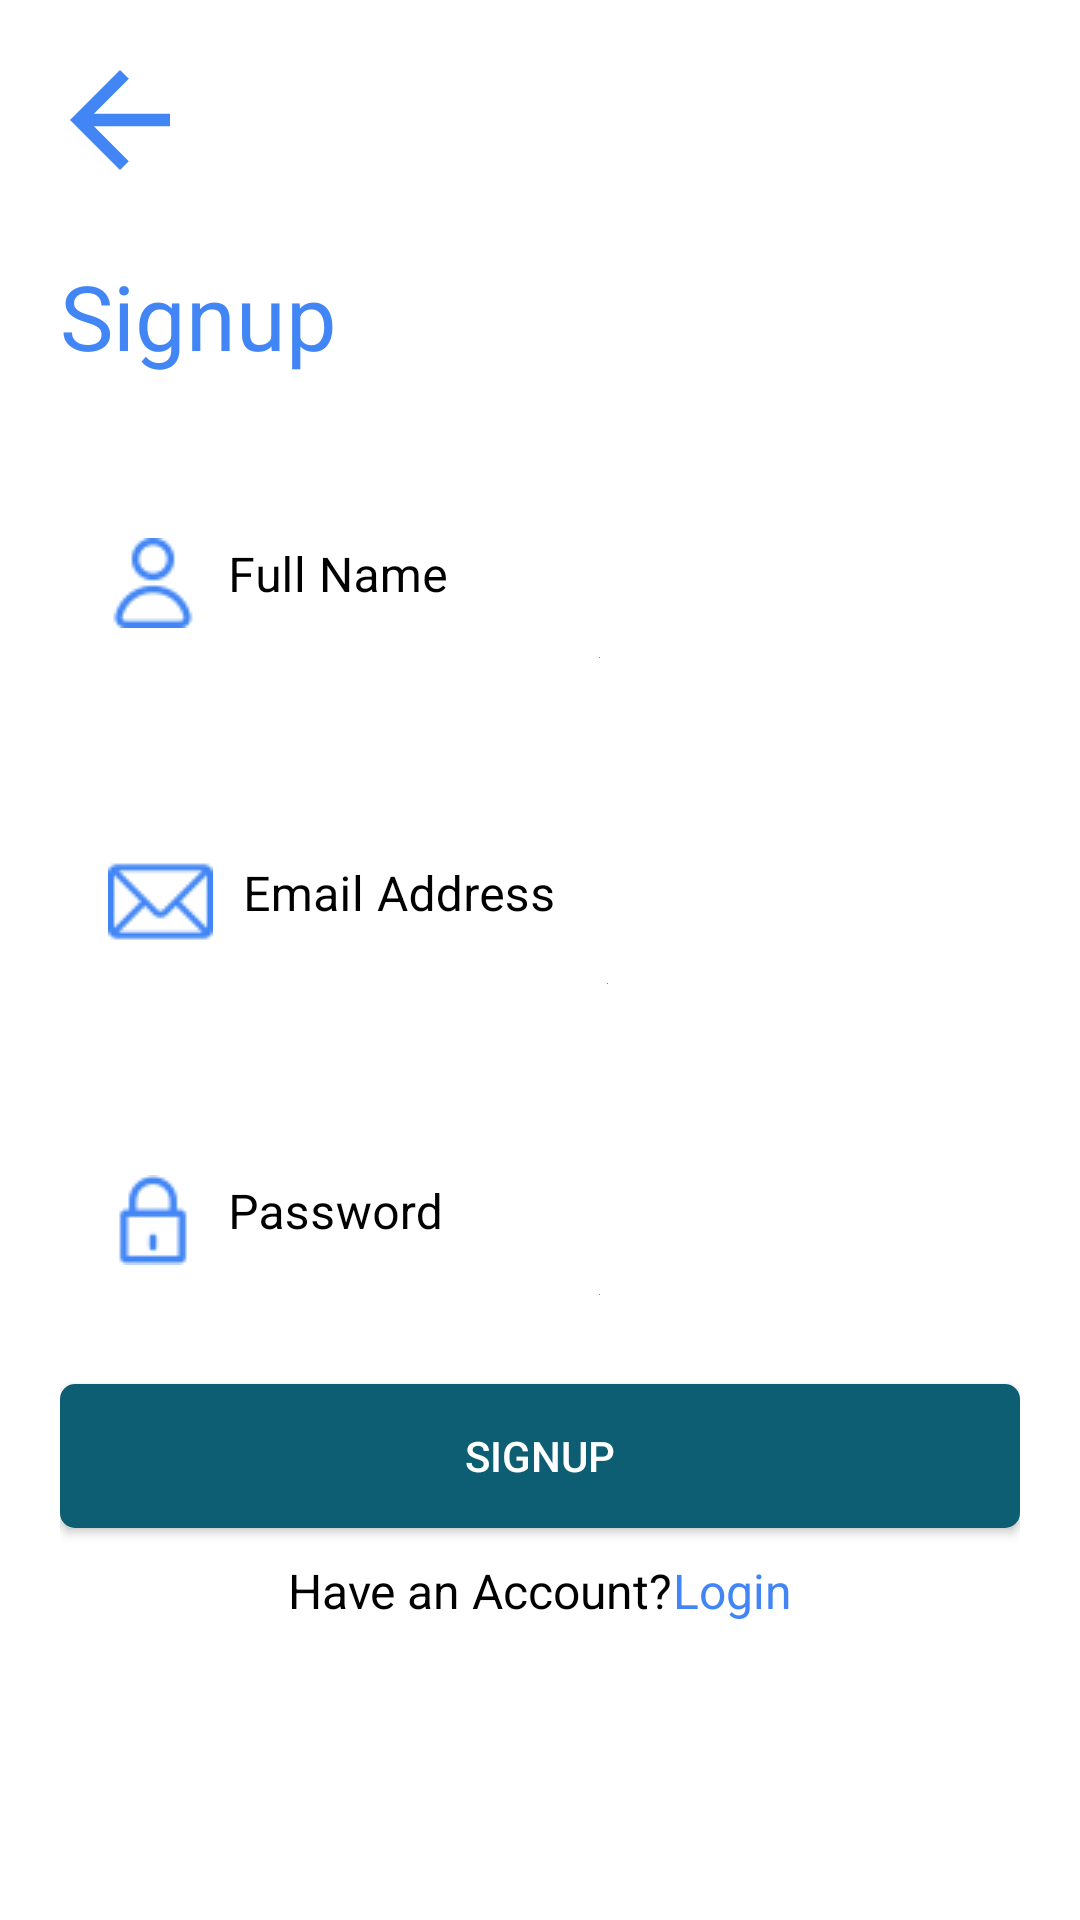

Screen size 1080*1920. Icon name, then its box in pixels as [x1,y1,x2,y2]:
back button: [70,70,170,170]
